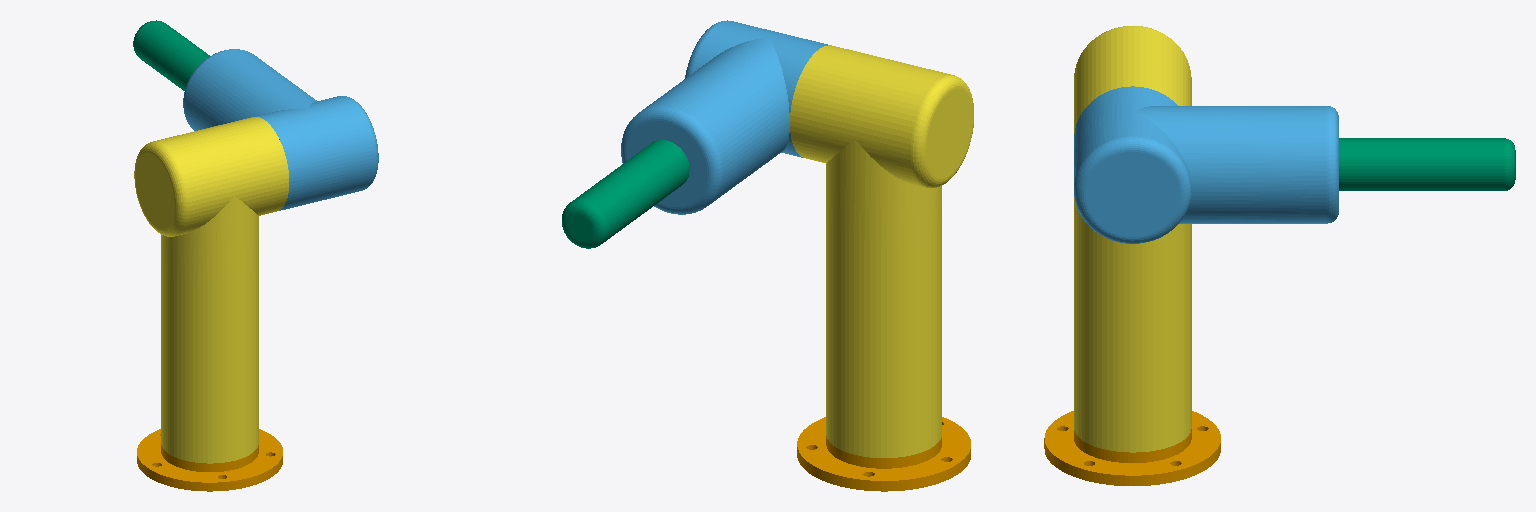
robot.urdf — ensamble:
<?xml version="1.0" ?>
<robot name="ensamble">

<material name="silver">
  <color rgba="0.700 0.700 0.700 1.000"/>
</material>

<link name="base_link">
  <inertial>
    <origin xyz="-1.6490572120600742e-14 1.83228579117786e-17 0.006202531645569622" rpy="0 0 0"/>
    <mass value="0.9741293420618535"/>
    <inertia ixx="0.0017884833498908012" iyy="0.0017884833498411374" izz="0.003540120125996522" ixy="3.569766704458449e-18" iyz="1.1070795475853067e-19" ixz="-1.9317408432355884e-17"/>
  </inertial>
  <visual>
    <origin xyz="0 0 0" rpy="0 0 0"/>
    <geometry>
      <mesh filename="meshes/base_link.stl" scale="0.001 0.001 0.001"/>
    </geometry>
    <material name="silver"/>
    <material/>
  </visual>
  <collision>
    <origin xyz="0 0 0" rpy="0 0 0"/>
    <geometry>
      <mesh filename="meshes/base_link.stl" scale="0.001 0.001 0.001"/>
    </geometry>
  </collision>
</link>

<link name="Brazo_3DOF_v51">
  <inertial>
    <origin xyz="0.0520009153647729 0.057660921839357976 0.0" rpy="0 0 0"/>
    <mass value="3.174908514931175"/>
    <inertia ixx="0.01899719876263406" iyy="0.00784255360707442" izz="0.01971982292037229" ixy="0.00036630387759239297" iyz="6.938893903907228e-18" ixz="1.3877787807814457e-17"/>
  </inertial>
  <visual>
    <origin xyz="-0.065 -0.0 -0.32" rpy="0 0 0"/>
    <geometry>
      <mesh filename="meshes/Brazo_3DOF_v51.stl" scale="0.001 0.001 0.001"/>
    </geometry>
    <material name="silver"/>
    <material/>
  </visual>
  <collision>
    <origin xyz="-0.065 -0.0 -0.32" rpy="0 0 0"/>
    <geometry>
      <mesh filename="meshes/Brazo_3DOF_v51.stl" scale="0.001 0.001 0.001"/>
    </geometry>
  </collision>
</link>

<link name="Prismatico_3DOF_v11">
  <inertial>
    <origin xyz="-1.0685896612017132e-15 4.440892098500626e-16 0.0" rpy="0 0 0"/>
    <mass value="3.702562646450509"/>
    <inertia ixx="0.027620353813103626" iyy="0.0009300113776765095" izz="0.02762035381310382" ixy="1.3877787807814457e-17" iyz="2.7755575615628914e-17" ixz="0.0"/>
  </inertial>
  <visual>
    <origin xyz="-0.115 -0.175 -0.32" rpy="0 0 0"/>
    <geometry>
      <mesh filename="meshes/Prismatico_3DOF_v11.stl" scale="0.001 0.001 0.001"/>
    </geometry>
    <material name="silver"/>
    <material/>
  </visual>
  <collision>
    <origin xyz="-0.115 -0.175 -0.32" rpy="0 0 0"/>
    <geometry>
      <mesh filename="meshes/Prismatico_3DOF_v11.stl" scale="0.001 0.001 0.001"/>
    </geometry>
  </collision>
</link>

<link name="PILAR_3DOF_v21">
  <inertial>
    <origin xyz="-0.005067937119229189 7.897066667282554e-09 0.18971174437598187" rpy="0 0 0"/>
    <mass value="5.286674605460273"/>
    <inertia ixx="0.06805820699537785" iyy="0.06952688621146874" izz="0.012937645223035851" ixy="-8.318049757370474e-10" iyz="-1.3535355466676922e-08" ixz="0.002954895183483878"/>
  </inertial>
  <visual>
    <origin xyz="-0.0 -0.0 -0.02" rpy="0 0 0"/>
    <geometry>
      <mesh filename="meshes/PILAR_3DOF_v21.stl" scale="0.001 0.001 0.001"/>
    </geometry>
    <material name="silver"/>
    <material/>
  </visual>
  <collision>
    <origin xyz="-0.0 -0.0 -0.02" rpy="0 0 0"/>
    <geometry>
      <mesh filename="meshes/PILAR_3DOF_v21.stl" scale="0.001 0.001 0.001"/>
    </geometry>
  </collision>
</link>

<joint name="Revolute_2" type="continuous">
  <origin xyz="0.065 0.0 0.3" rpy="0 0 0"/>
  <parent link="PILAR_3DOF_v21"/>
  <child link="Brazo_3DOF_v51"/>
  <axis xyz="1.0 0.0 0.0"/>
</joint>
<transmission name="Revolute_2_tran">
  <type>transmission_interface/SimpleTransmission</type>
  <joint name="Revolute_2">
    <hardwareInterface>PositionJointInterface</hardwareInterface>
  </joint>
  <actuator name="Revolute_2_actr">
    <hardwareInterface>PositionJointInterface</hardwareInterface>
    <mechanicalReduction>1</mechanicalReduction>
  </actuator>
</transmission>

<joint name="Slider_3" type="prismatic">
  <origin xyz="0.05 0.175 0.0" rpy="0 0 0"/>
  <parent link="Brazo_3DOF_v51"/>
  <child link="Prismatico_3DOF_v11"/>
  <axis xyz="0.0 1.0 0.0"/>
  <limit upper="0.03" lower="-0.05" effort="100" velocity="100"/>
</joint>
<transmission name="Slider_3_tran">
  <type>transmission_interface/SimpleTransmission</type>
  <joint name="Slider_3">
    <hardwareInterface>PositionJointInterface</hardwareInterface>
  </joint>
  <actuator name="Slider_3_actr">
    <hardwareInterface>PositionJointInterface</hardwareInterface>
    <mechanicalReduction>1</mechanicalReduction>
  </actuator>
</transmission>

<joint name="Revolute_4" type="continuous">
  <origin xyz="0.0 0.0 0.02" rpy="0 0 0"/>
  <parent link="base_link"/>
  <child link="PILAR_3DOF_v21"/>
  <axis xyz="0.0 0.0 1.0"/>
</joint>
<transmission name="Revolute_4_tran">
  <type>transmission_interface/SimpleTransmission</type>
  <joint name="Revolute_4">
    <hardwareInterface>PositionJointInterface</hardwareInterface>
  </joint>
  <actuator name="Revolute_4_actr">
    <hardwareInterface>PositionJointInterface</hardwareInterface>
    <mechanicalReduction>1</mechanicalReduction>
  </actuator>
</transmission>

</robot>

--- Facts derived from the render (not from the file) ---
Views: 3 orthographic renders of the robot side by side, from view 1: azimuth 30°, elevation 25°; view 2: azimuth 150°, elevation 25°; view 3: azimuth 270°, elevation 25°.
Robot: ensamble — 4 links, 3 joints (2 continuous, 1 prismatic); root link base_link; default pose: every joint at zero.
Links seen in each view (by area): view 1: PILAR_3DOF_v21, Brazo_3DOF_v51, base_link, Prismatico_3DOF_v11; view 2: PILAR_3DOF_v21, Brazo_3DOF_v51, Prismatico_3DOF_v11, base_link; view 3: Brazo_3DOF_v51, PILAR_3DOF_v21, Prismatico_3DOF_v11, base_link.
Boxes of the visible links, box(x1,y1,x2,y2) form: PILAR_3DOF_v21: box(134, 117, 288, 463); Brazo_3DOF_v51: box(183, 49, 378, 210); base_link: box(137, 429, 282, 491); Prismatico_3DOF_v11: box(133, 20, 209, 90); PILAR_3DOF_v21: box(790, 45, 973, 457); Brazo_3DOF_v51: box(621, 20, 827, 214); Prismatico_3DOF_v11: box(562, 140, 689, 248); base_link: box(797, 417, 970, 491); Brazo_3DOF_v51: box(1074, 86, 1338, 243); PILAR_3DOF_v21: box(1074, 26, 1191, 452); Prismatico_3DOF_v11: box(1339, 138, 1515, 190); base_link: box(1044, 411, 1220, 485).
Bounding box of the posed robot: 0.25 × 0.4 × 0.37 m (x, y, z).
Meshes: 4 distinct files referenced, 4 mesh visuals loaded (4 binary STL).
